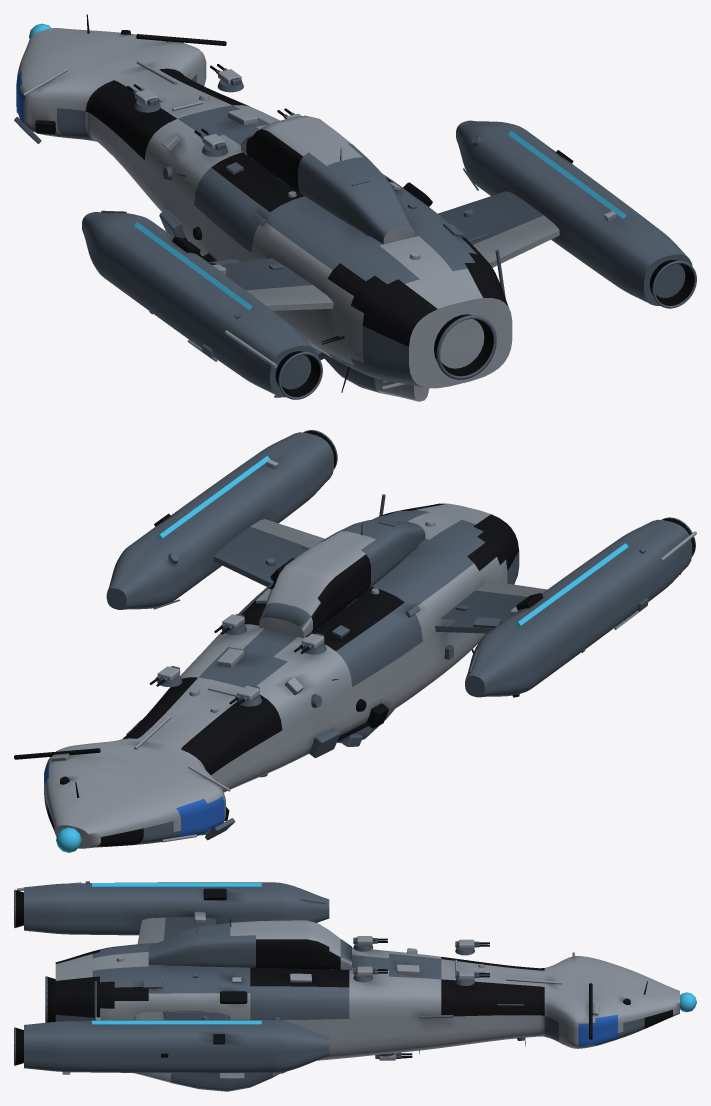
File: harrier-transformed.glb
3 views of the same model, one above another, from view 1: azimuth 30°, elevation 25°; view 2: azimuth 150°, elevation 25°; view 3: azimuth 270°, elevation 25° (orthographic). The views are drawn at different scales.
Visible parts, largest first — view 1: harrier; view 2: harrier; view 3: harrier.
Boxes of the visible parts, x1,y1,x2,y2 form: harrier: (14, 14, 696, 401); harrier: (14, 430, 696, 852); harrier: (14, 881, 696, 1091).
Size of the model in its own units: 157 by 77.78 by 280.
